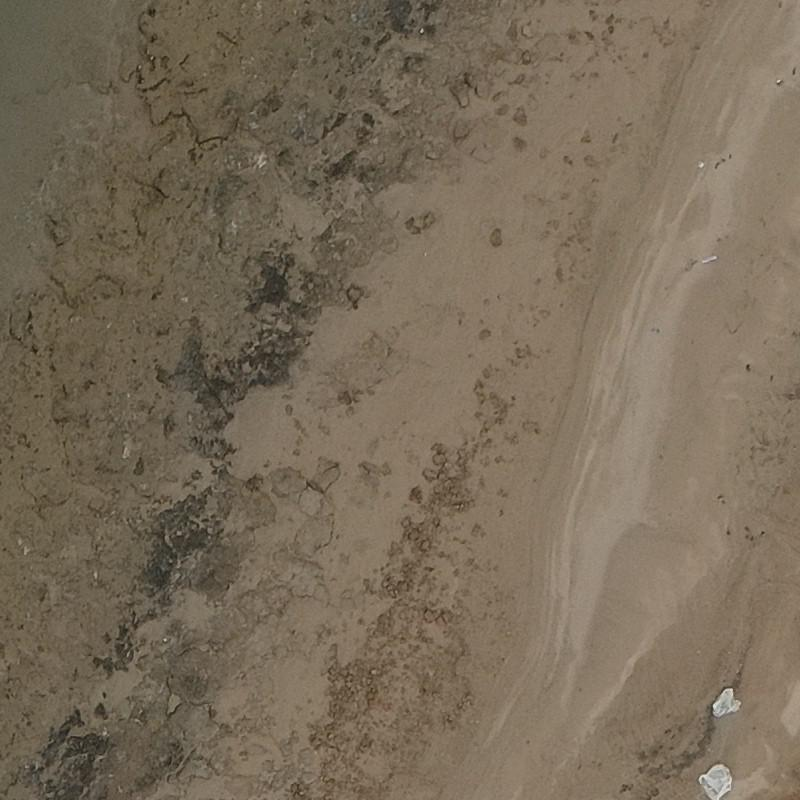coastal_litter: (700, 762, 733, 800), (710, 688, 741, 716)
